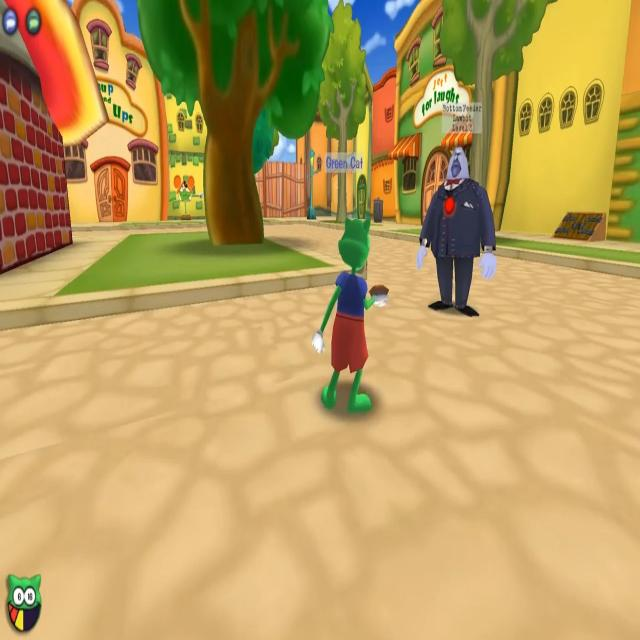bottomfeeder: (420, 92, 496, 323)
